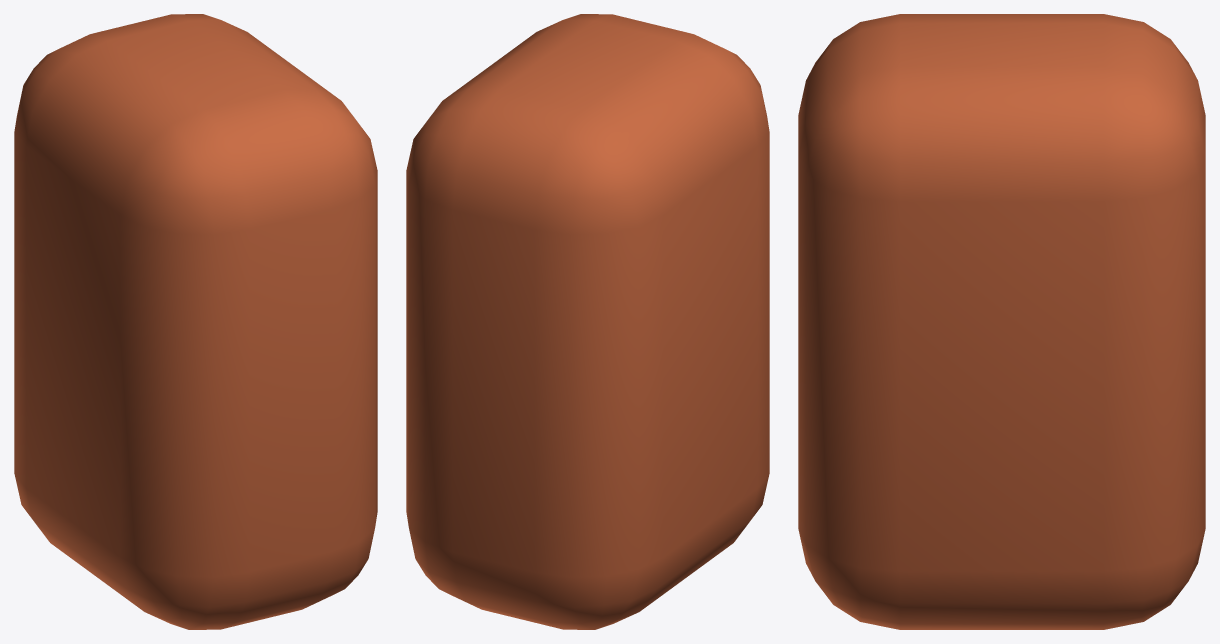
The model's file is random_orbit_sander_power_switch.glb.
The picture shows the model from 3 angles, left to right: view 1: azimuth 30°, elevation 25°; view 2: azimuth 150°, elevation 25°; view 3: azimuth 270°, elevation 25°; orthographic projection. The views are drawn at different scales.
Parts seen in each view (by area): view 1: random_orbit_sander_power_switch; view 2: random_orbit_sander_power_switch; view 3: random_orbit_sander_power_switch.
Part boxes in pixels (bbox=[...]): random_orbit_sander_power_switch: bbox=[14, 14, 377, 629]; random_orbit_sander_power_switch: bbox=[406, 14, 769, 629]; random_orbit_sander_power_switch: bbox=[798, 14, 1205, 629].
Size of the model in its own units: 0.012 by 0.024 by 0.016.
